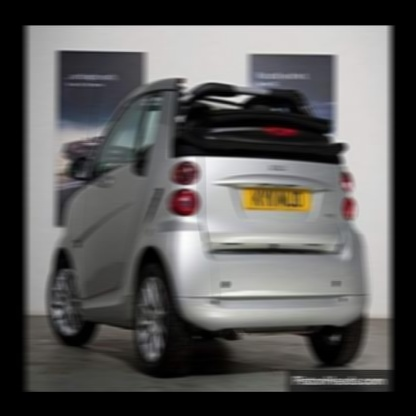Vehicle: (48, 78, 370, 370)
